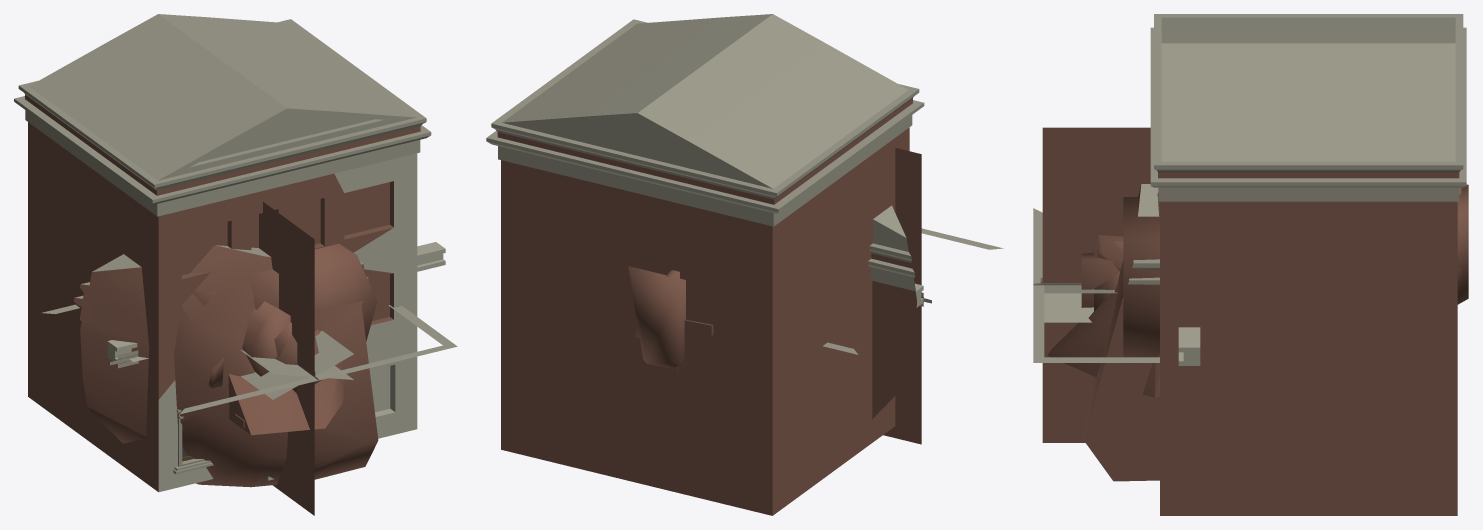
The model's file is building3_big_chunks.glb.
3 renders of one model, left to right at view 1: azimuth 30°, elevation 25°; view 2: azimuth 150°, elevation 25°; view 3: azimuth 270°, elevation 25°, orthographic. The views are drawn at different scales.
Visible parts, largest first — view 1: Building3_Big.001_cell.002, Building3_Big.001_cell.025, Building3_Big.200, Building3_Big.001_cell.024, Building3_Big.001_cell.017, Building3_Big.001_cell.012, Building3_Big.647, Building3_Big.626, Building3_Big.632, Building3_Big.894, Building3_Big.001_cell.009, Building3_Big.001_cell.034; view 2: Building3_Big.001_cell.002, Building3_Big.001_cell.025, Building3_Big.199, Building3_Big.001_cell.017, Building3_Big.001_cell.016; view 3: Building3_Big.001_cell.002, Building3_Big.396, Building3_Big.001_cell.025, Building3_Big.001_cell.017, Building3_Big.001_cell.024, Building3_Big.647, Building3_Big.001_cell.034, Building3_Big.001_cell.009, Building3_Big.632, Building3_Big.894, Building3_Big.001_cell.012, Building3_Big.001_cell.032 (+2 smaller).
Boxes of the visible parts, x1=… form: Building3_Big.001_cell.002: x1=14, y1=14, x2=431, y2=492; Building3_Big.001_cell.025: x1=74, y1=245, x2=378, y2=487; Building3_Big.200: x1=259, y1=202, x2=314, y2=515; Building3_Big.001_cell.024: x1=228, y1=329, x2=344, y2=435; Building3_Big.001_cell.017: x1=249, y1=243, x2=377, y2=341; Building3_Big.001_cell.012: x1=242, y1=301, x2=290, y2=376; Building3_Big.647: x1=42, y1=304, x2=457, y2=414; Building3_Big.626: x1=241, y1=330, x2=353, y2=399; Building3_Big.632: x1=47, y1=305, x2=446, y2=411; Building3_Big.894: x1=240, y1=350, x2=353, y2=379; Building3_Big.001_cell.009: x1=417, y1=242, x2=445, y2=271; Building3_Big.001_cell.034: x1=275, y1=333, x2=322, y2=393; Building3_Big.001_cell.002: x1=486, y1=14, x2=924, y2=515; Building3_Big.001_cell.025: x1=868, y1=205, x2=916, y2=418; Building3_Big.199: x1=883, y1=148, x2=921, y2=444; Building3_Big.001_cell.017: x1=628, y1=266, x2=685, y2=368; Building3_Big.001_cell.016: x1=677, y1=319, x2=713, y2=372; Building3_Big.001_cell.002: x1=1150, y1=14, x2=1466, y2=515; Building3_Big.396: x1=1042, y1=127, x2=1150, y2=442; Building3_Big.001_cell.025: x1=1084, y1=184, x2=1159, y2=481; Building3_Big.001_cell.017: x1=1123, y1=184, x2=1468, y2=363; Building3_Big.001_cell.024: x1=1047, y1=288, x2=1159, y2=397; Building3_Big.647: x1=1033, y1=208, x2=1159, y2=362; Building3_Big.001_cell.034: x1=1081, y1=252, x2=1119, y2=307; Building3_Big.001_cell.009: x1=1178, y1=327, x2=1200, y2=365; Building3_Big.632: x1=1037, y1=210, x2=1159, y2=358; Building3_Big.894: x1=1044, y1=307, x2=1093, y2=322; Building3_Big.001_cell.012: x1=1097, y1=235, x2=1123, y2=271; Building3_Big.001_cell.032: x1=1094, y1=241, x2=1123, y2=311.
Size of the model in its own units: 12.72 by 12.97 by 12.37.
